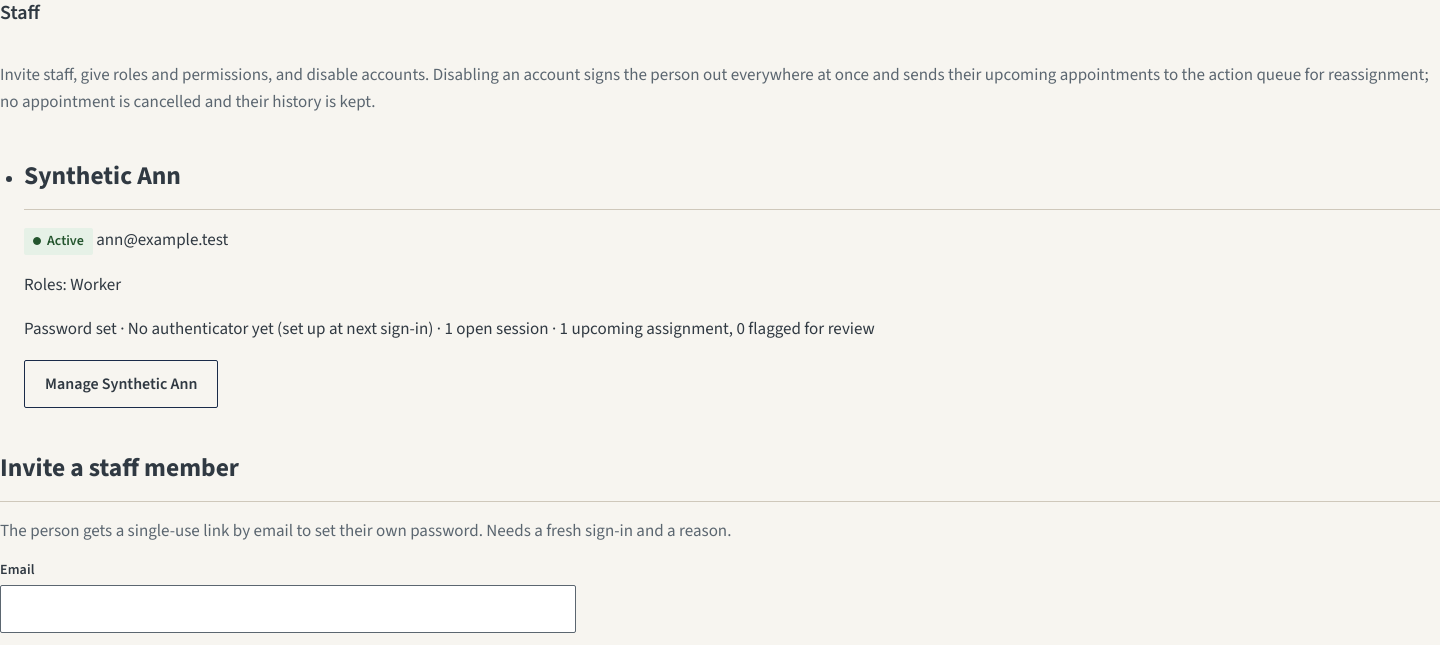
[HH-STAFF-07][HH-STAFF-02] the Staff screen › [HH-STAFF-03] a refusal is written out (the last active Owner stays)
Click the button "Manage Synthetic Ann" at (121, 384), box 24,360 -> 218,408
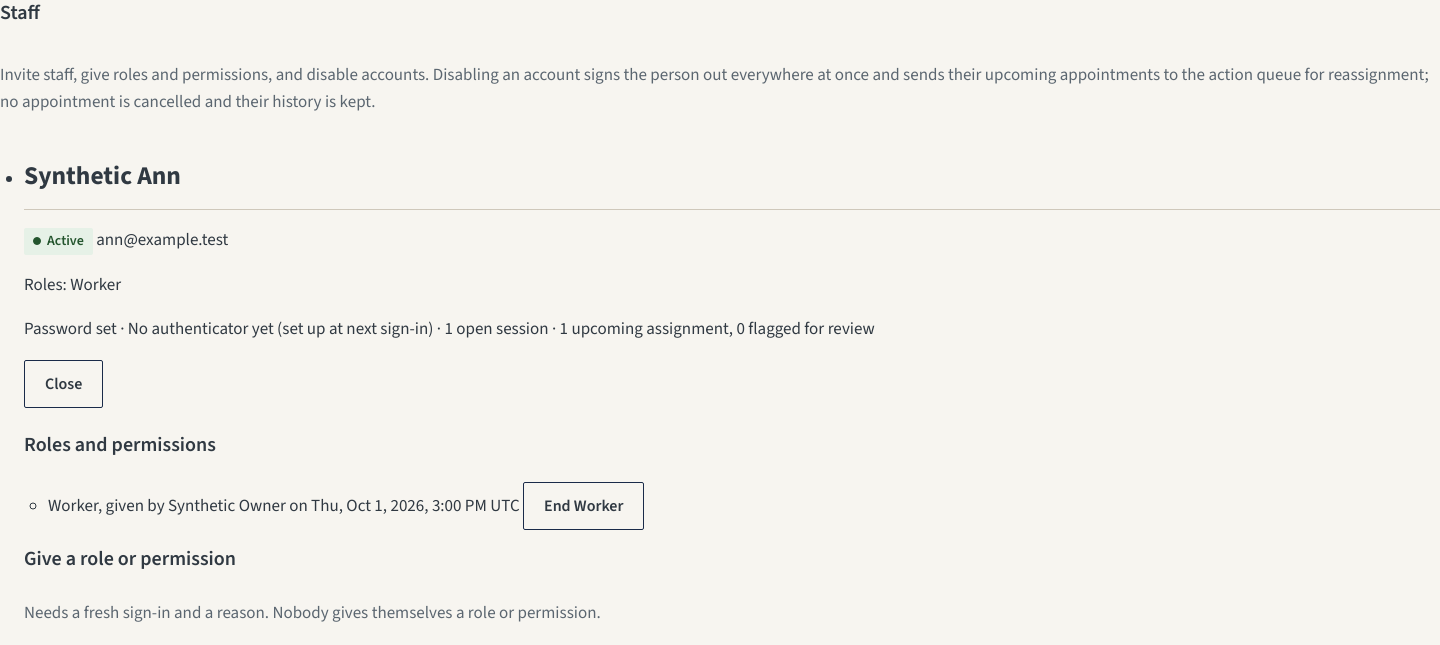
Click the button "End Worker" at (584, 506), box 523,482 -> 644,530
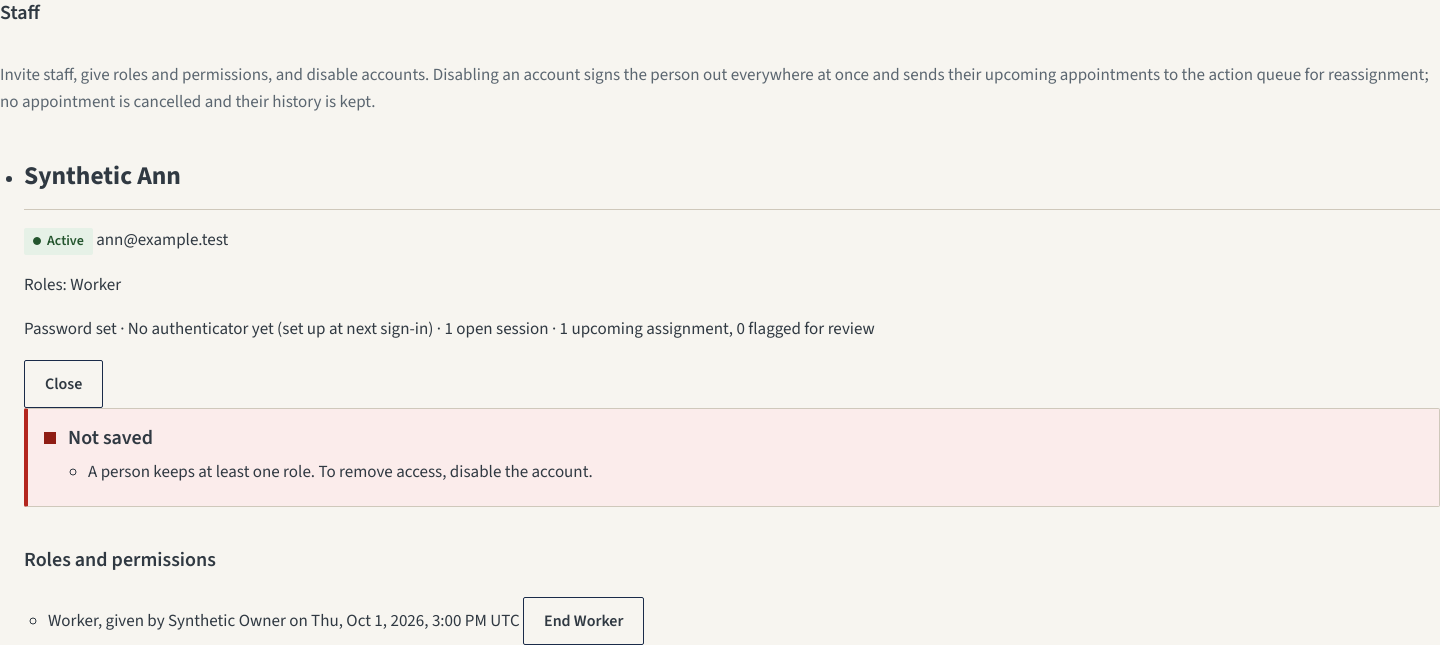
Expected: the message shows "A person keeps at least one role. To remove access, disable the account.", 88,460 -> 593,484
